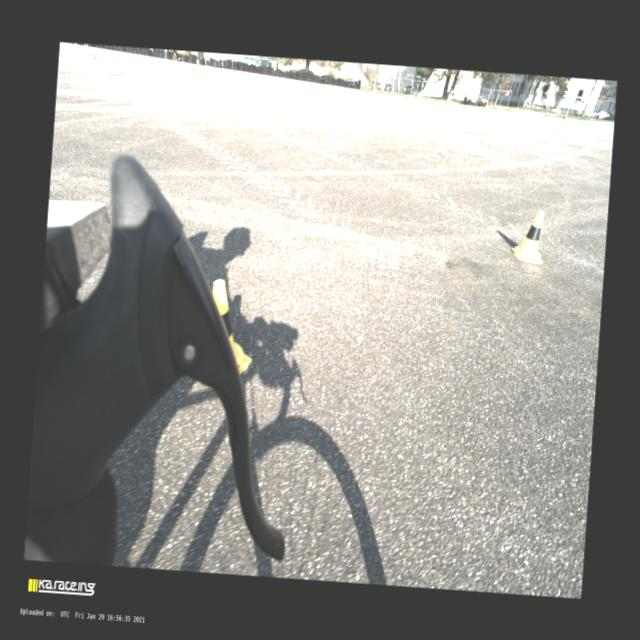yellow_cone: (206, 278, 258, 376), (509, 208, 546, 264)
